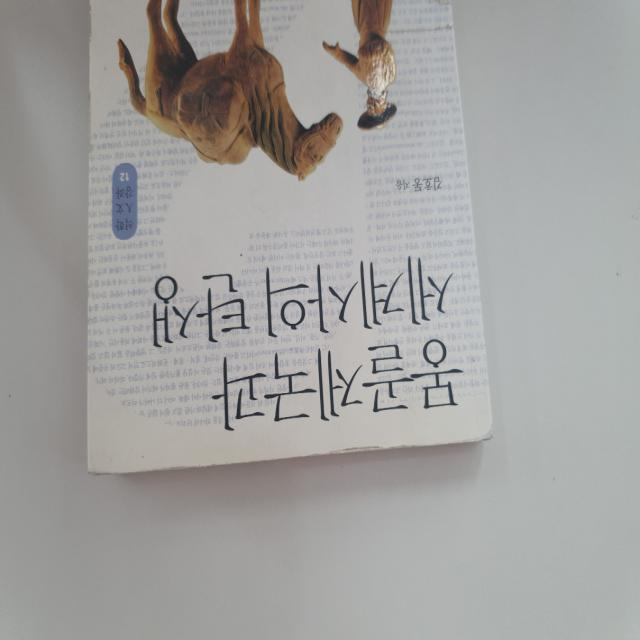Wornout: (298, 435, 417, 463), (139, 461, 248, 478), (86, 461, 139, 479), (459, 422, 497, 445)
